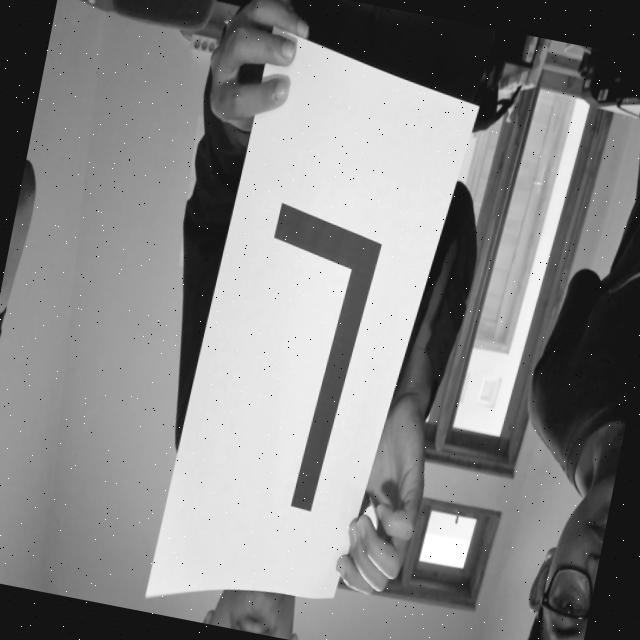l: (184, 129, 420, 545)
